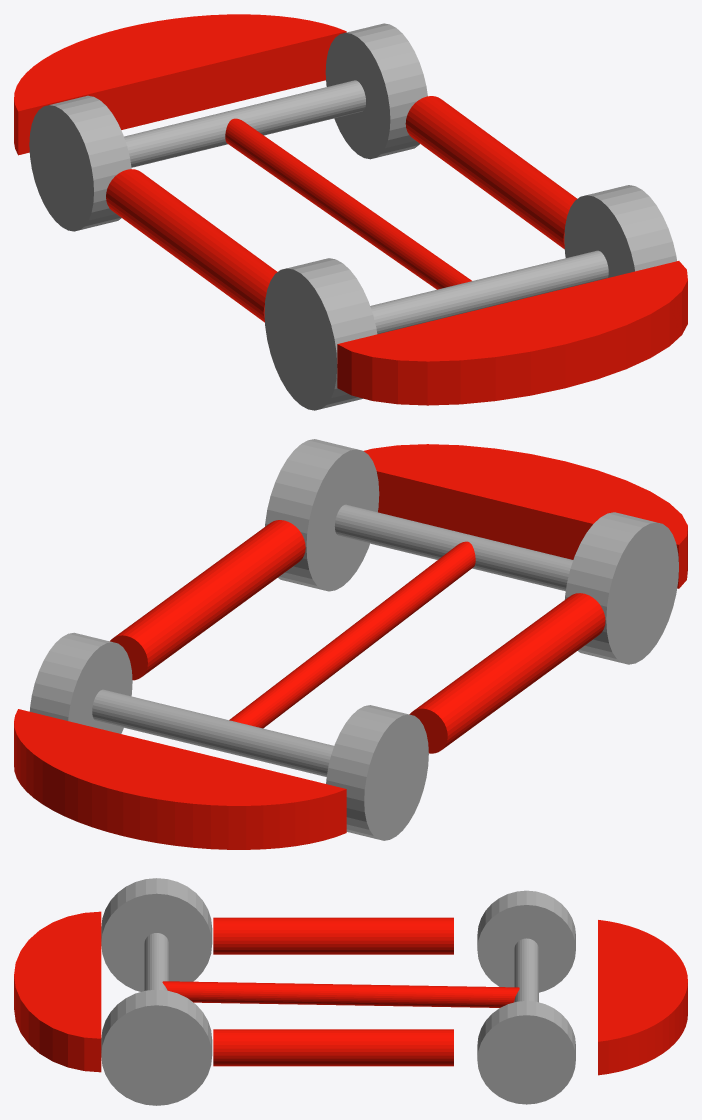
File: red_car.fbx
3 views of the same model, one above another, from view 1: azimuth 30°, elevation 25°; view 2: azimuth 150°, elevation 25°; view 3: azimuth 270°, elevation 25° (orthographic). The views are drawn at different scales.
Visible parts, largest first — view 1: estrutura_a_volta, rodas frente, rodas tras, eixo meio; view 2: estrutura_a_volta, rodas tras, rodas frente, eixo meio; view 3: estrutura_a_volta, rodas tras, rodas frente, eixo meio.
Boxes of the visible parts, x1,y1,x2,y2 form: estrutura_a_volta: (14,14,687,405); rodas frente: (29,23,427,231); rodas tras: (264,185,676,410); eixo meio: (225,118,471,289); estrutura_a_volta: (14,444,687,849); rodas tras: (265,439,678,664); rodas frente: (29,632,428,840); eixo meio: (229,541,475,728); estrutura_a_volta: (14,911,687,1075); rodas tras: (101,878,212,1105); rodas frente: (477,890,575,1104); eixo meio: (162,981,519,1007).
Bounding box in the file's own units: 488 × 180 × 1093.
